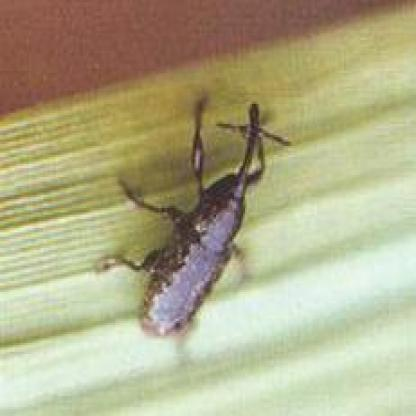rice-bug: (126, 100, 267, 341)
